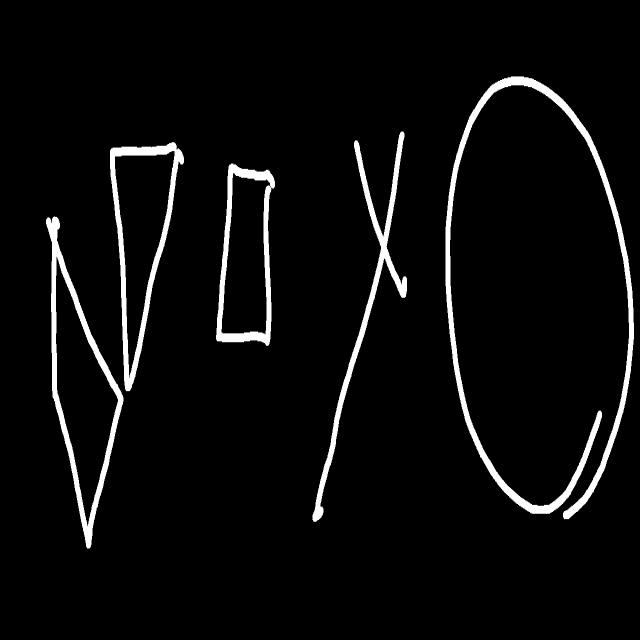Circle: (446, 76, 634, 519)
Cross: (312, 132, 406, 522)
Diamond: (46, 219, 124, 548)
Square: (217, 164, 275, 345)
Triangle: (110, 142, 184, 390)
